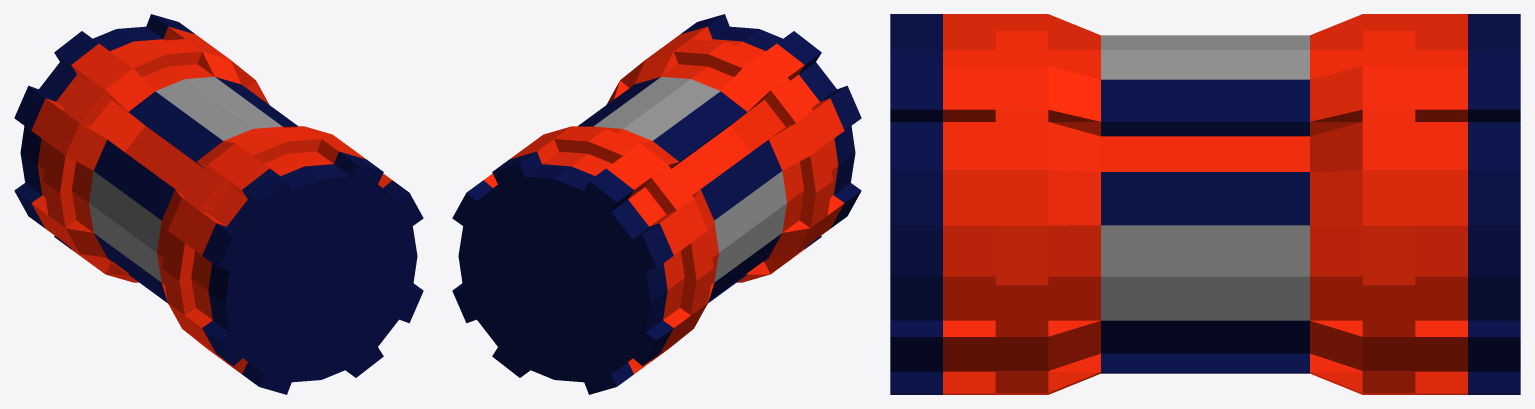
File: connectorM.FBX
3 views of the same model, side by side, from view 1: azimuth 30°, elevation 25°; view 2: azimuth 150°, elevation 25°; view 3: azimuth 270°, elevation 25° (orthographic). The views are drawn at different scales.
Parts seen in each view (by area): view 1: Соеденитель-Сред002; view 2: Соеденитель-Сред002; view 3: Соеденитель-Сред002.
Part boxes in pixels (x1=…): Соеденитель-Сред002: x1=14, y1=14, x2=423, y2=394; Соеденитель-Сред002: x1=452, y1=14, x2=861, y2=394; Соеденитель-Сред002: x1=890, y1=14, x2=1520, y2=394.
Size of the model in its own units: 54.6 by 89.82 by 54.6.
